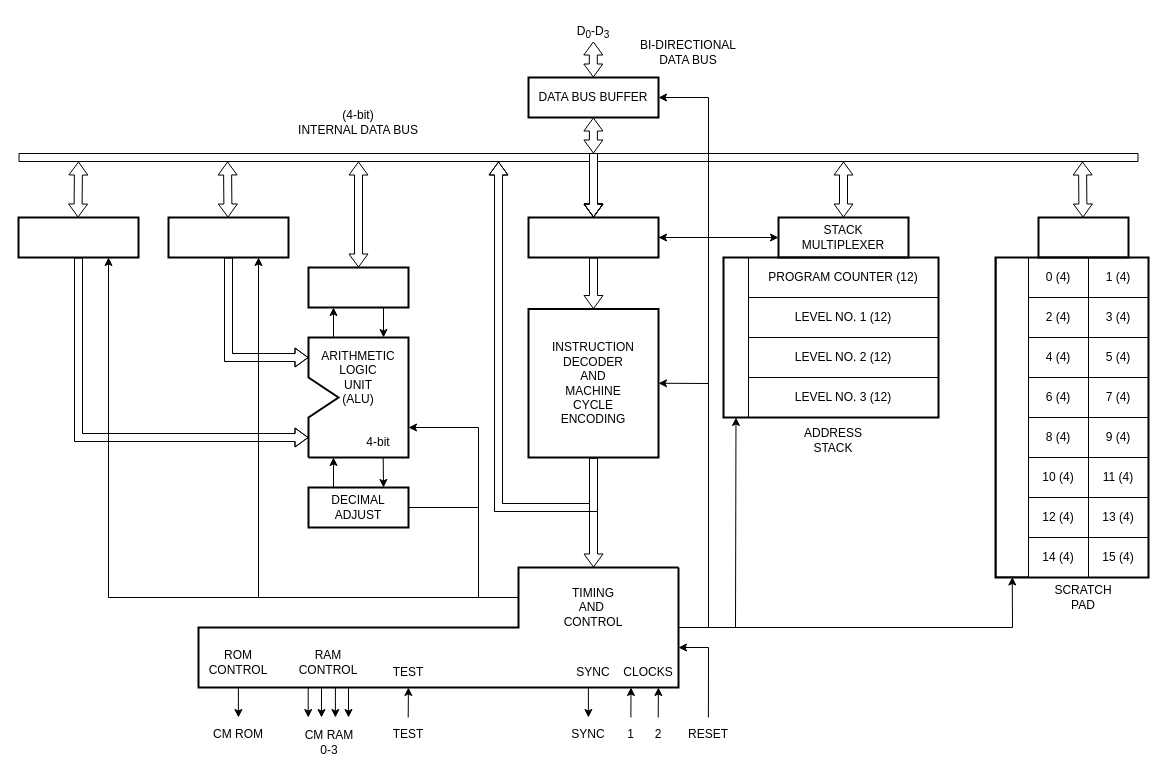
Image size: 1166x774. Some labels were removed from this diagram. The centre of each missing label's shape, as x and y in pixels:
"Accumulateur 4-bit" goes at point 78,237.
"Flag FLIP-FLOPS" goes at point 358,287.
"INDEX REG. SELECT" goes at point 1011,416.
"INSTRUCTION REGISTER (8-bit)" goes at point 593,237.
"REGISTRE MPX" goes at point 1083,237.
"STACK POINTER" goes at point 735,337.
"Temporaire 4-bit" goes at point 228,237.
